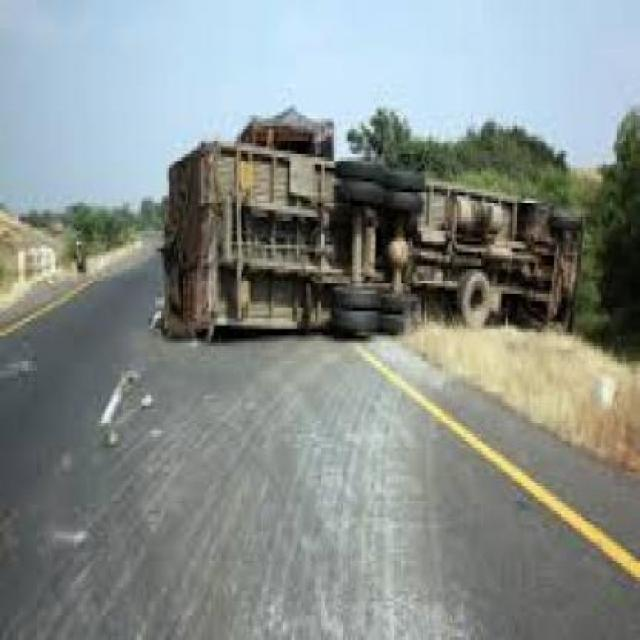accident: (107, 83, 640, 401)
